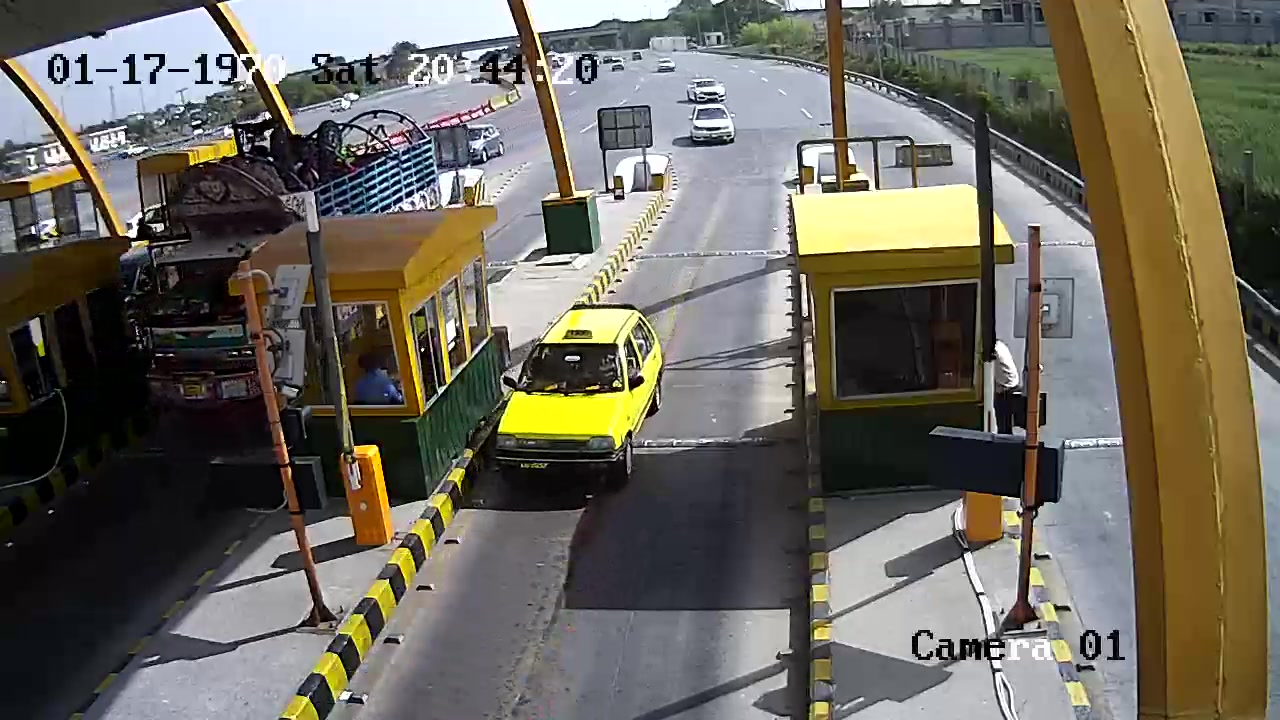F1: (498, 291, 671, 480)
